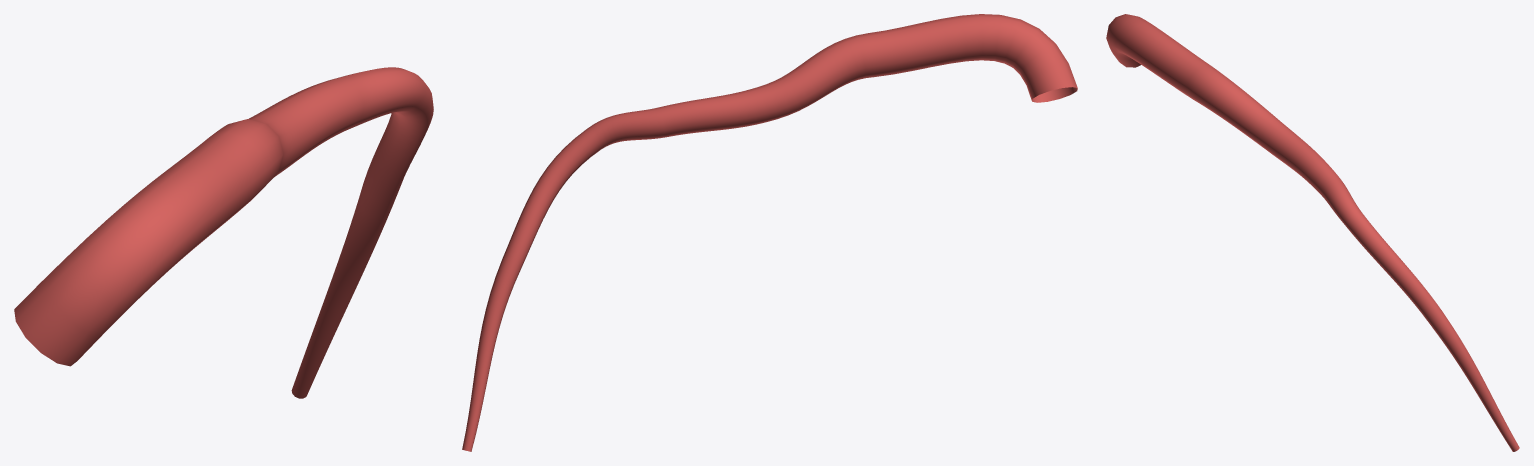
The picture shows the model from 3 angles, left to right: view 1: azimuth 30°, elevation 25°; view 2: azimuth 150°, elevation 25°; view 3: azimuth 270°, elevation 25°; orthographic projection. The views are drawn at different scales.
Visible parts, largest first — view 1: 左侧膝上外侧动脉; view 2: 左侧膝上外侧动脉; view 3: 左侧膝上外侧动脉.
Part boxes in pixels (box(x1,y1,x2,y2)): 左侧膝上外侧动脉: box(14, 67, 433, 398); 左侧膝上外侧动脉: box(462, 14, 1077, 451); 左侧膝上外侧动脉: box(1106, 14, 1519, 451).
Size of the model in its own units: 0.07 by 0.059 by 0.0732.
